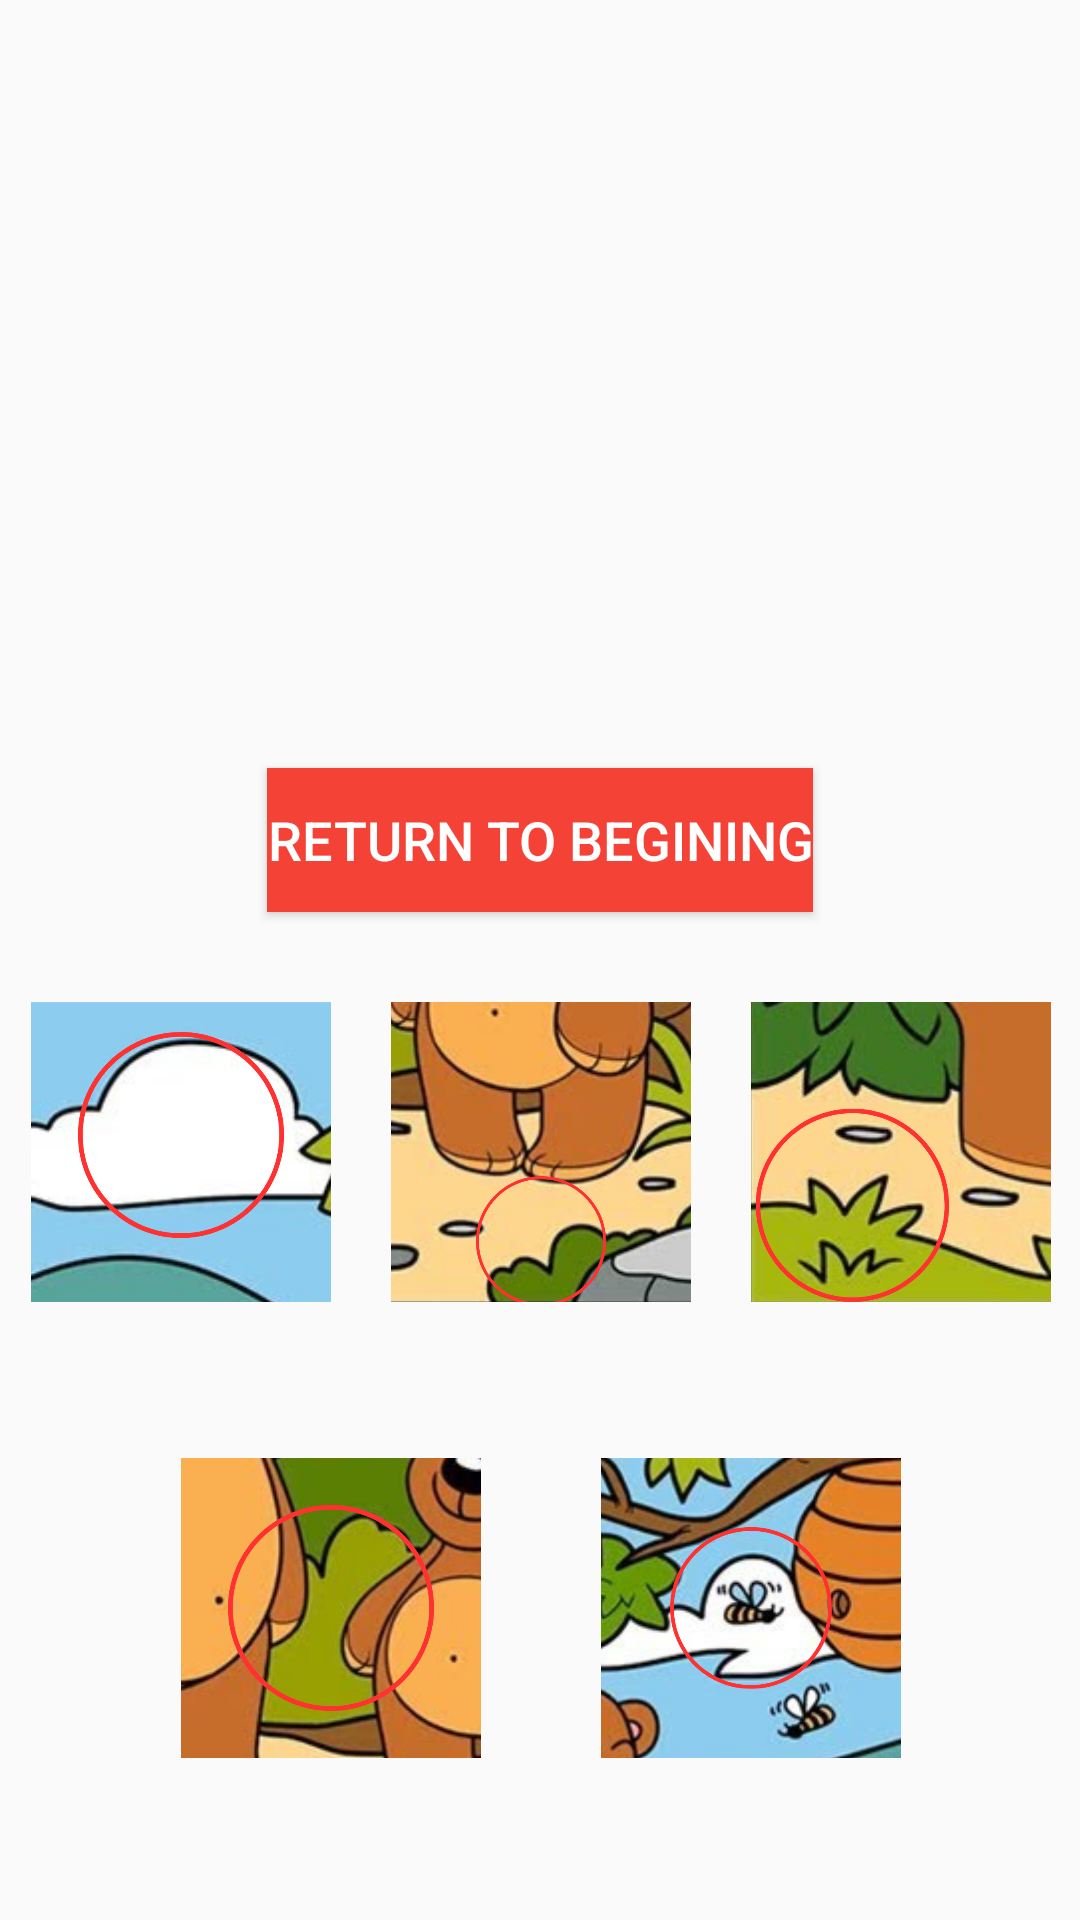

Named icons in this screenshot (1080px×1920px) and their bounding boxes, [x1=x1, y1=y1, x2=x2, y2=y2]:
difference: [x1=31, y1=1002, x2=331, y2=1302], [x1=391, y1=1002, x2=691, y2=1302], [x1=751, y1=1002, x2=1051, y2=1302], [x1=181, y1=1458, x2=481, y2=1758], [x1=601, y1=1458, x2=901, y2=1758]
